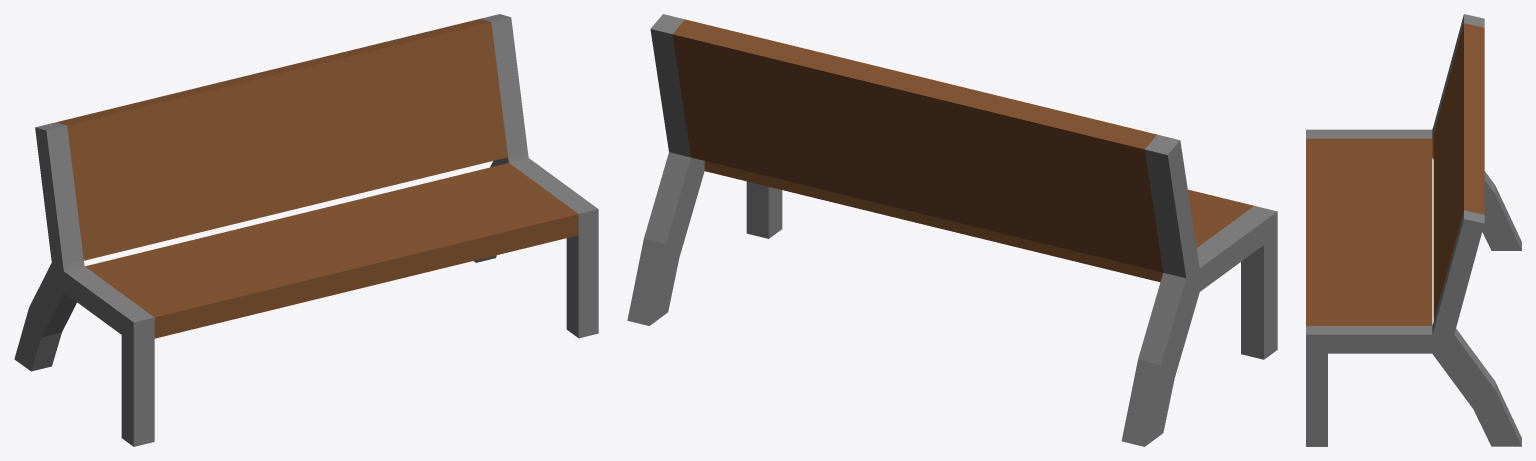
File: bench.fbx
3 renders of one model, left to right at view 1: azimuth 30°, elevation 25°; view 2: azimuth 150°, elevation 25°; view 3: azimuth 270°, elevation 25°, orthographic. The views are drawn at different scales.
Visible parts, largest first — view 1: Cube; view 2: Cube; view 3: Cube.
Boxes of the visible parts, x1=… form: Cube: x1=14, y1=14, x2=598, y2=446; Cube: x1=627, y1=14, x2=1277, y2=446; Cube: x1=1306, y1=14, x2=1521, y2=446.
Size of the model in its own units: 294 by 153 by 131.
